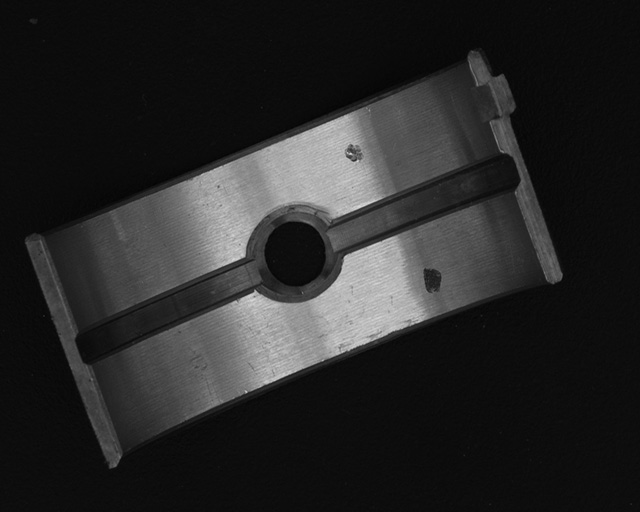blot: (422, 266, 443, 294)
bruise: (344, 142, 365, 163)
gap: (329, 153, 518, 256), (76, 259, 264, 362)
hole: (256, 207, 335, 294)
